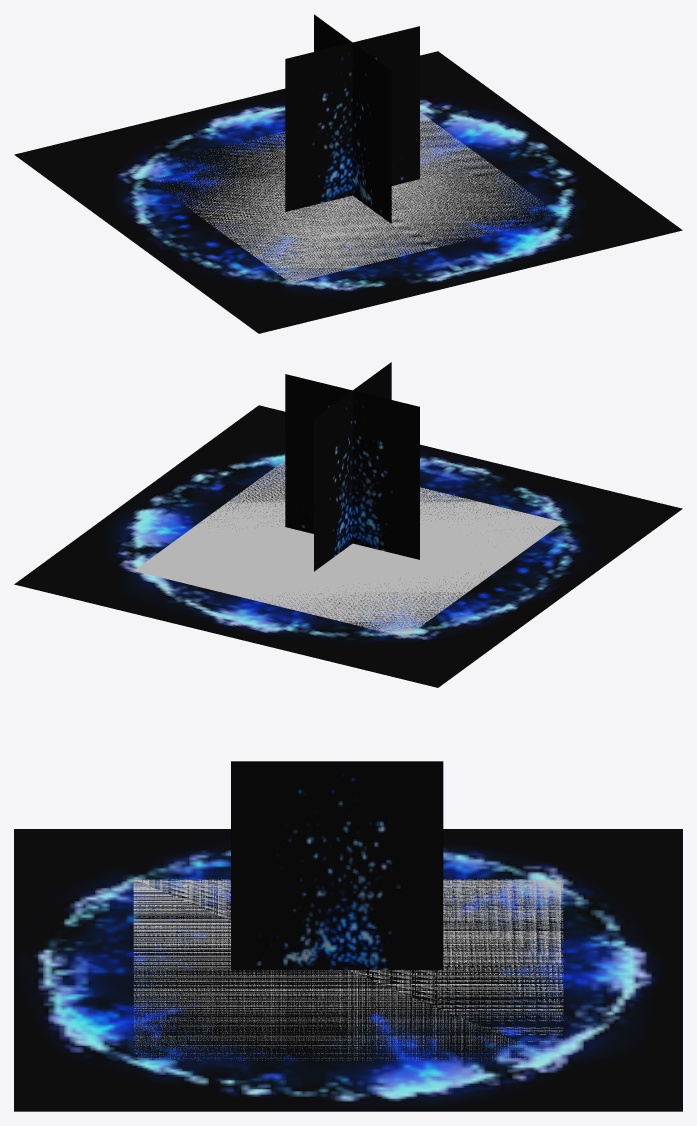
File: effect.FBX
3 views of the same model, one above another, from view 1: azimuth 30°, elevation 25°; view 2: azimuth 150°, elevation 25°; view 3: azimuth 270°, elevation 25° (orthographic). The views are drawn at different scales.
Parts seen in each view (by area): view 1: effect_002, effect_003, effect_004; view 2: effect_002, effect_003, effect_004; view 3: effect_002, effect_004, effect_003.
Part boxes in pixels (bbox=[...]): effect_002: bbox=[14, 51, 682, 333]; effect_003: bbox=[151, 112, 552, 283]; effect_004: bbox=[285, 14, 419, 223]; effect_002: bbox=[14, 405, 682, 687]; effect_003: bbox=[134, 460, 562, 636]; effect_004: bbox=[285, 362, 419, 571]; effect_002: bbox=[14, 829, 682, 1111]; effect_004: bbox=[231, 761, 443, 970]; effect_003: bbox=[133, 879, 563, 1060].
Size of the model in its own units: 4.91 by 1.8 by 4.91.
